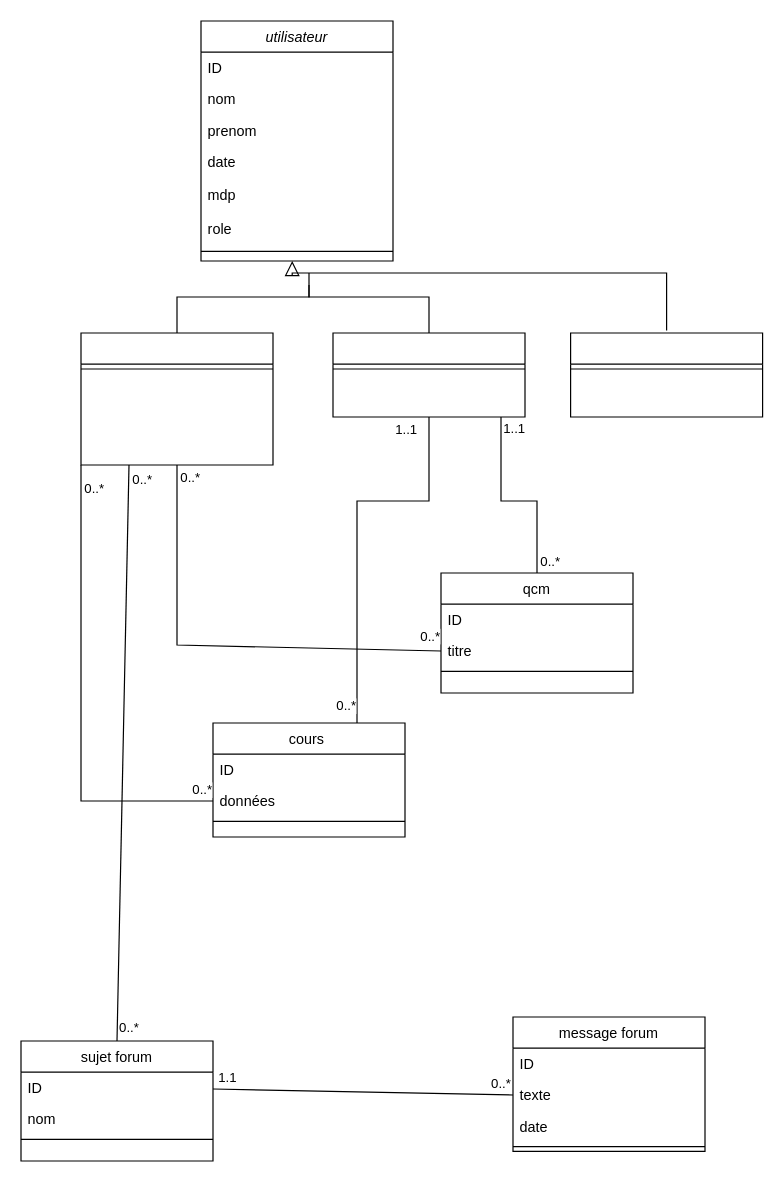
Image size: 784x1182. Some labels were removed from this diagram. The shapes that lost their labels are listed below. From the top down, each one's centre as x and y in pixels, then its label:
At pixel 428 374: "professeur".
At pixel 666 374: "administrateur".
At pixel 176 398: "etudiant".
